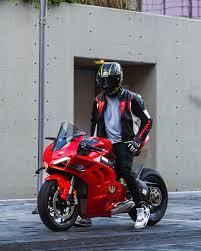Helmet: (96, 62, 122, 93)
